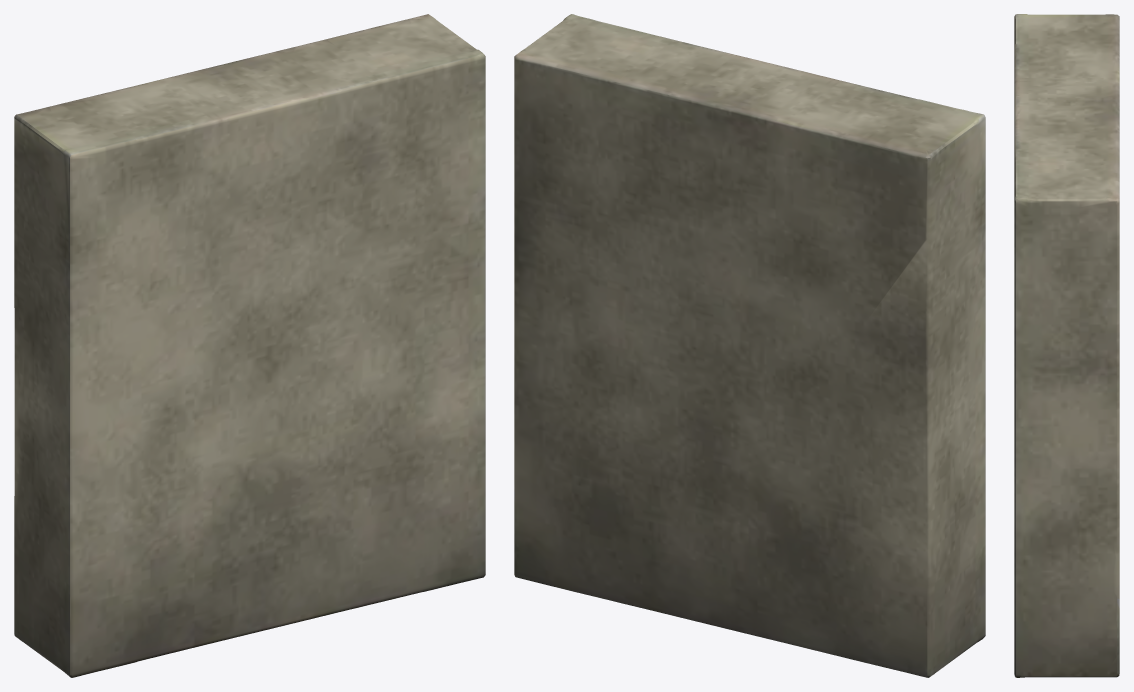
File: rustic-limestone-fireplace-v001.glb
The picture shows the model from 3 angles, left to right: view 1: azimuth 30°, elevation 25°; view 2: azimuth 150°, elevation 25°; view 3: azimuth 270°, elevation 25°; orthographic projection. The views are drawn at different scales.
Visible parts, largest first — view 1: rustic-limestone-fireplace; view 2: rustic-limestone-fireplace; view 3: rustic-limestone-fireplace.
Boxes of the visible parts, bbox=[...] form: rustic-limestone-fireplace: bbox=[14, 14, 485, 677]; rustic-limestone-fireplace: bbox=[514, 14, 985, 677]; rustic-limestone-fireplace: bbox=[1014, 14, 1119, 677].
Bounding box in the file's own units: 1.7 × 2.04 × 0.4067.
Materials: 1 (1 with a texture image).
